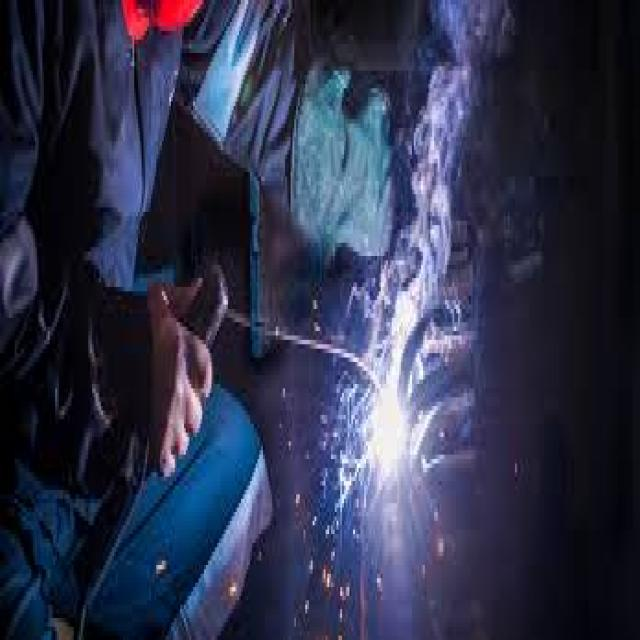welding: (367, 396, 407, 466)
